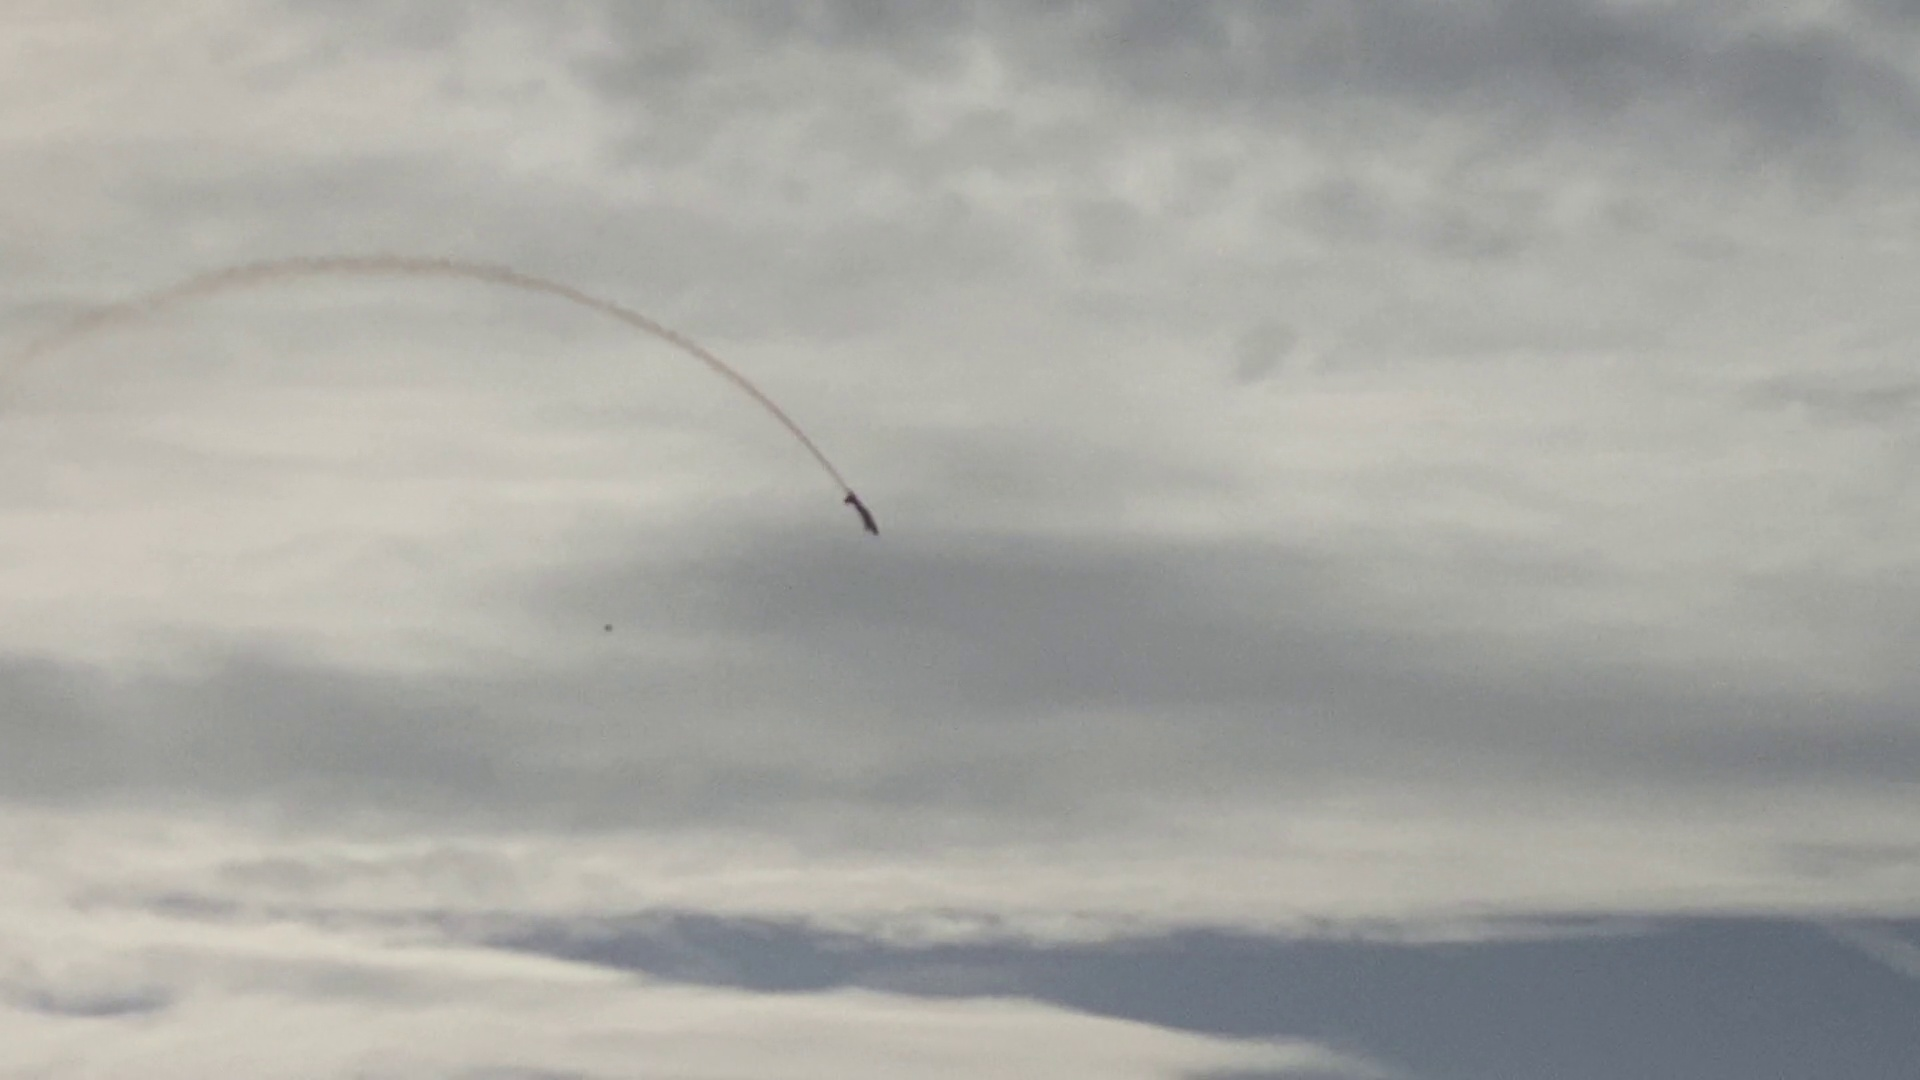plane: (844, 489, 881, 537)
